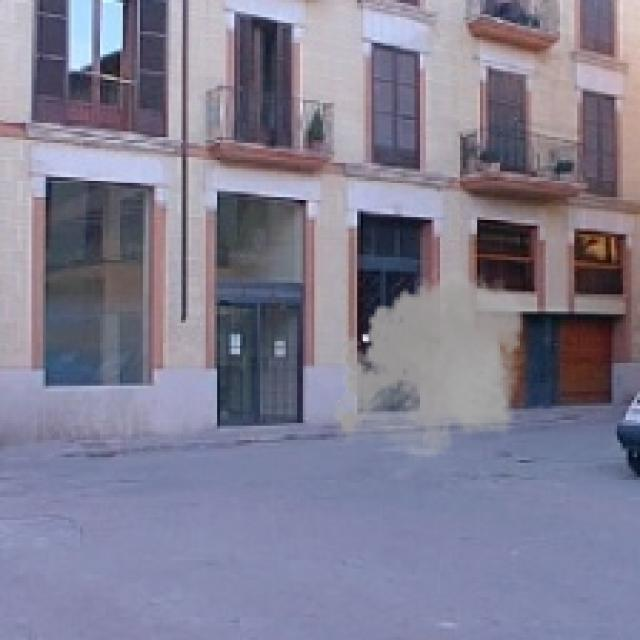smoke: (328, 263, 532, 468)
